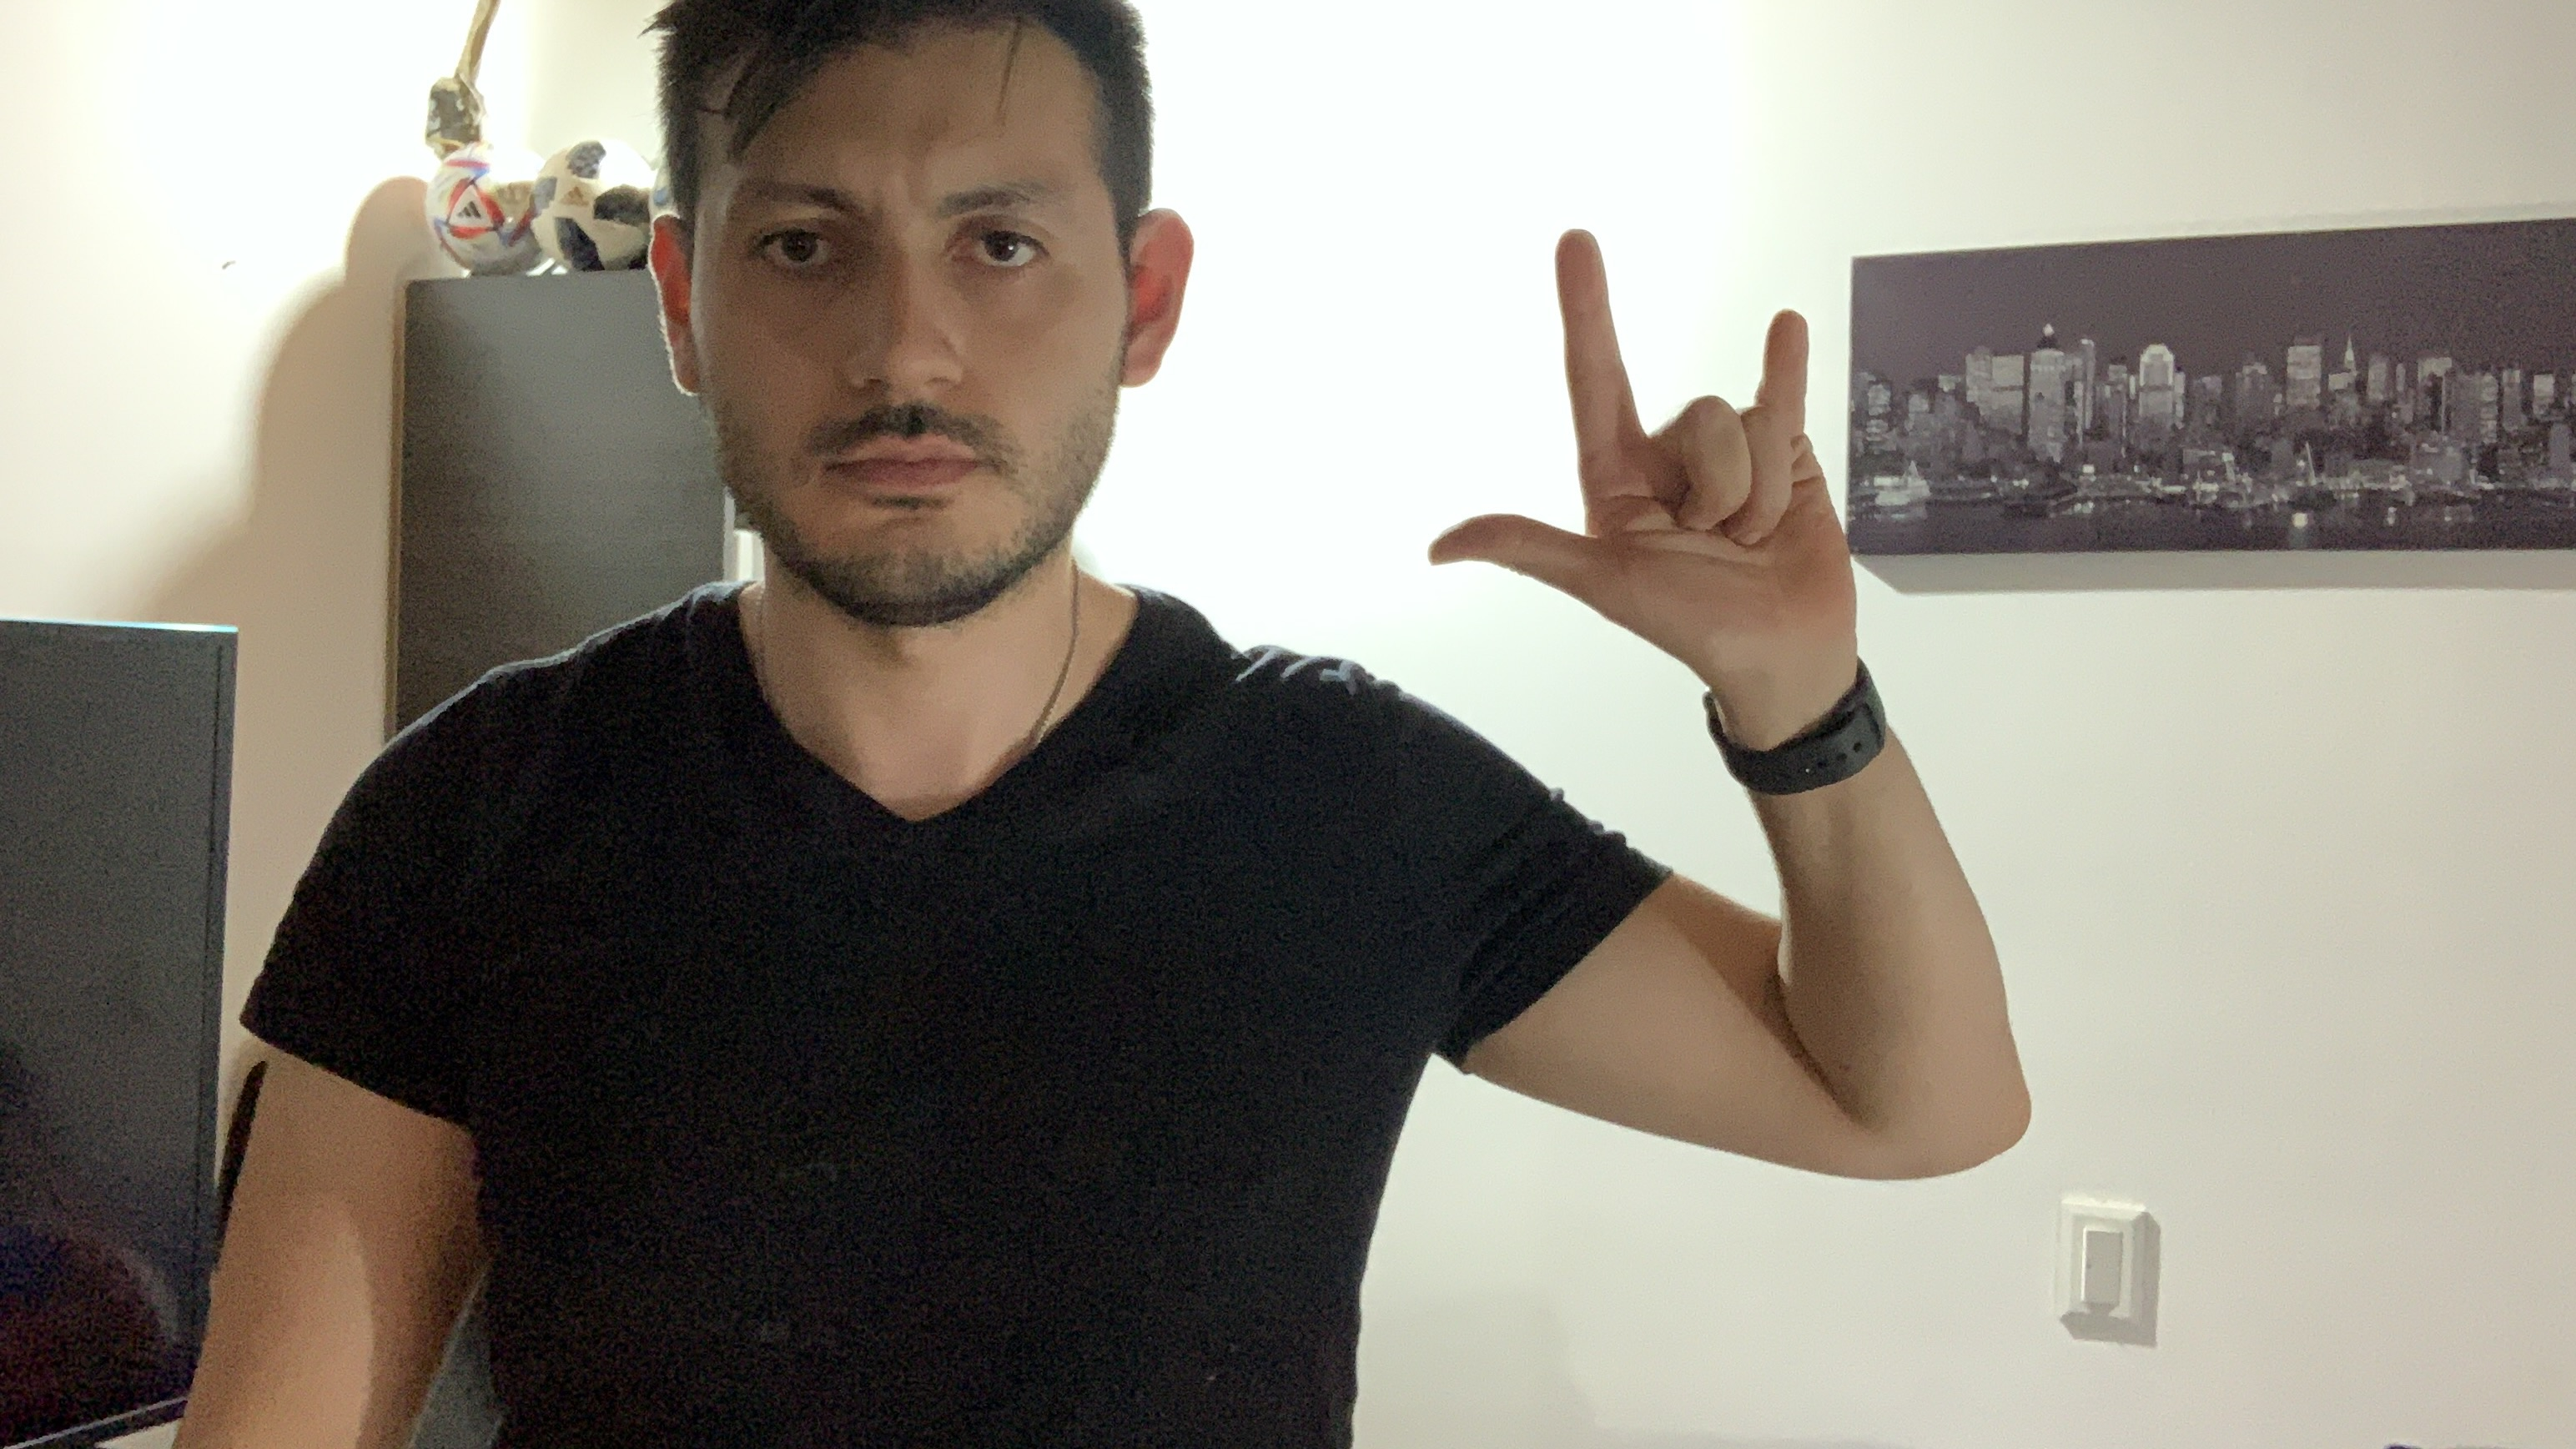I Love You: (1412, 219, 1893, 658)
